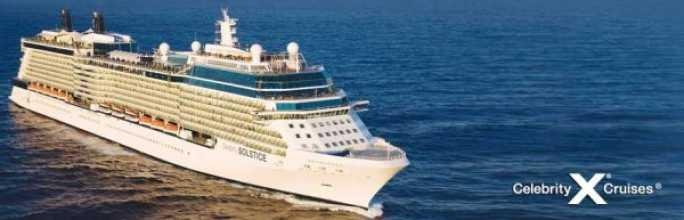youlun: (1, 6, 413, 216)
